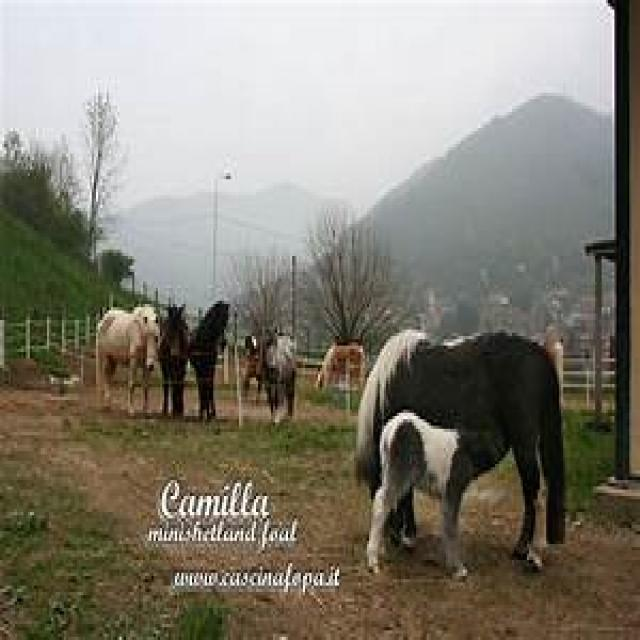horse: (356, 330, 565, 566), (367, 410, 523, 579)
